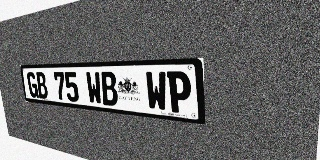5: (64, 72, 80, 102)
7: (53, 72, 67, 101)
B: (100, 72, 119, 106), (35, 72, 49, 99)
G: (26, 72, 39, 98)
P: (167, 71, 192, 114)
W: (145, 71, 168, 112), (85, 72, 103, 105)
